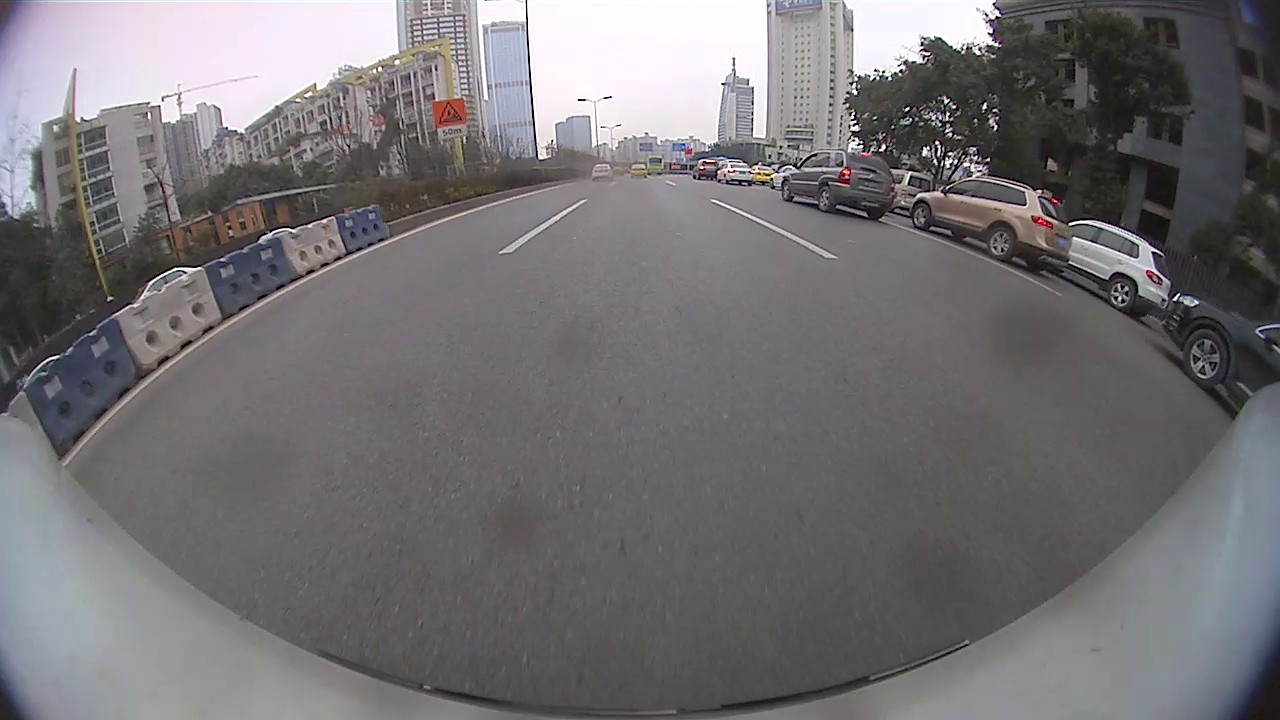car: (910, 175, 1070, 271), (1163, 293, 1279, 416), (1066, 219, 1171, 316), (781, 150, 895, 220), (890, 170, 934, 210), (717, 161, 754, 187), (691, 159, 719, 180), (592, 163, 614, 181), (628, 163, 648, 178)
front: (1179, 328, 1228, 390), (912, 203, 932, 232), (780, 182, 793, 200)
rear: (986, 225, 1018, 261), (1108, 279, 1140, 315), (818, 188, 835, 212)
